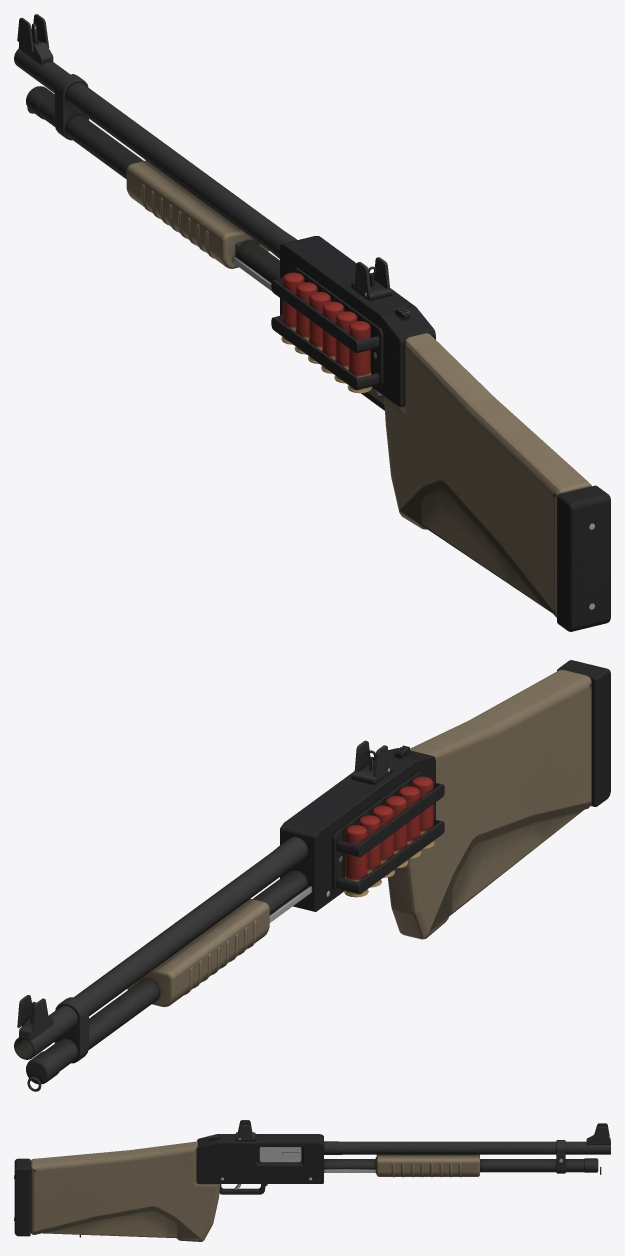
3 renders of one model, top to bottom at view 1: azimuth 30°, elevation 25°; view 2: azimuth 150°, elevation 25°; view 3: azimuth 270°, elevation 25°, orthographic. The views are drawn at different scales.
Parts seen in each view (by area): view 1: body, charging, saddle_00; view 2: body, charging, saddle_05, saddle_04, saddle_00, saddle_01, saddle_02, saddle_03; view 3: body, charging.
Boxes of the visible parts, <box> form: body: <box>14,14,610,631</box>; charging: <box>126,160,272,291</box>; saddle_00: <box>347,321,371,393</box>; body: <box>14,660,610,1091</box>; charging: <box>127,886,312,1007</box>; saddle_05: <box>344,825,368,897</box>; saddle_04: <box>358,815,381,887</box>; saddle_00: <box>411,776,434,848</box>; saddle_01: <box>398,786,421,858</box>; saddle_02: <box>385,796,408,868</box>; saddle_03: <box>371,805,394,877</box>; body: <box>14,1120,610,1241</box>; charging: <box>259,1147,479,1177</box>.
Size of the model in its own units: 0.0723 by 0.2222 by 1.03.
Materials: 1 (1 with a texture image).
